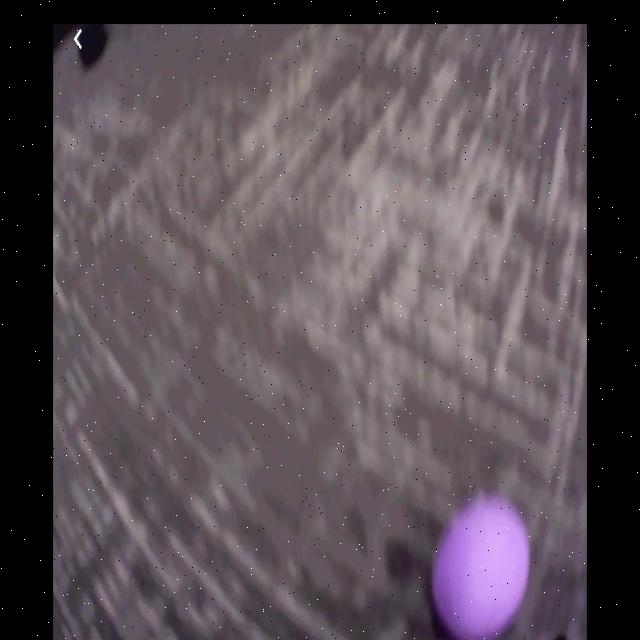ball: (434, 498, 533, 640)
